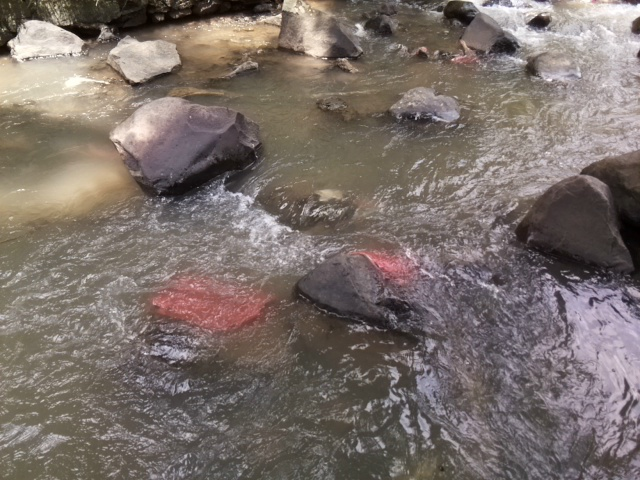Sampah_Plastik: (456, 42, 475, 65)
